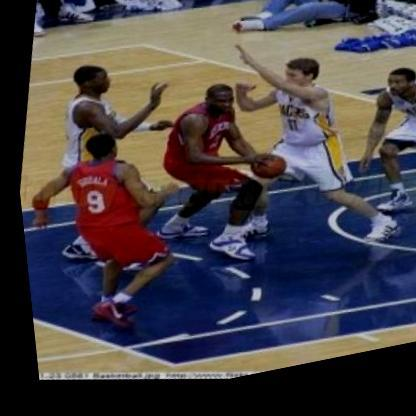basketball: (244, 156, 284, 198)
